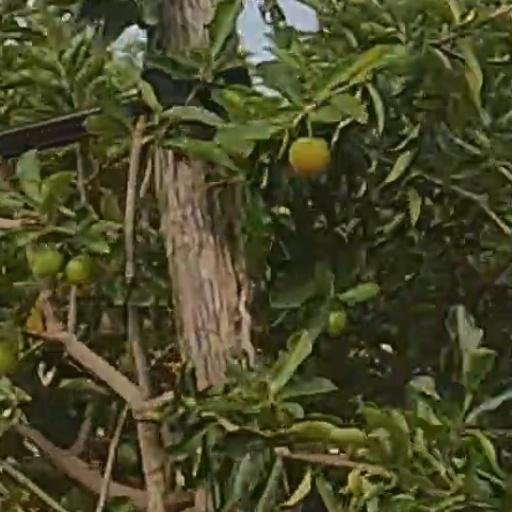acerola_verde: (71, 258, 96, 287)
acerola_vermelha: (287, 137, 328, 176)
